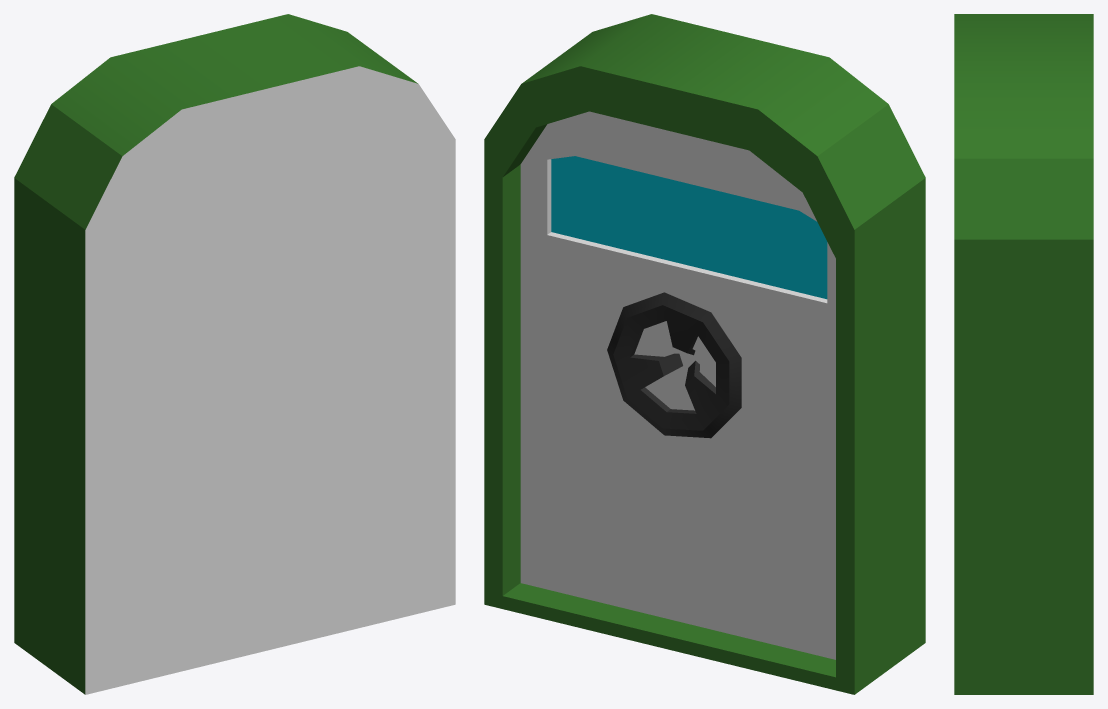
The model's file is Door.fbx.
The picture shows the model from 3 angles, left to right: view 1: azimuth 30°, elevation 25°; view 2: azimuth 150°, elevation 25°; view 3: azimuth 270°, elevation 25°; orthographic projection. The views are drawn at different scales.
Parts seen in each view (by area): view 1: Cube.002; view 2: Cube.002; view 3: Cube.002.
Part boxes in pixels (x1,y1,x2,y2): Cube.002: (14, 14, 455, 694); Cube.002: (484, 14, 925, 694); Cube.002: (954, 14, 1093, 694).
Bounding box in the file's own units: 600 × 870 × 200.
